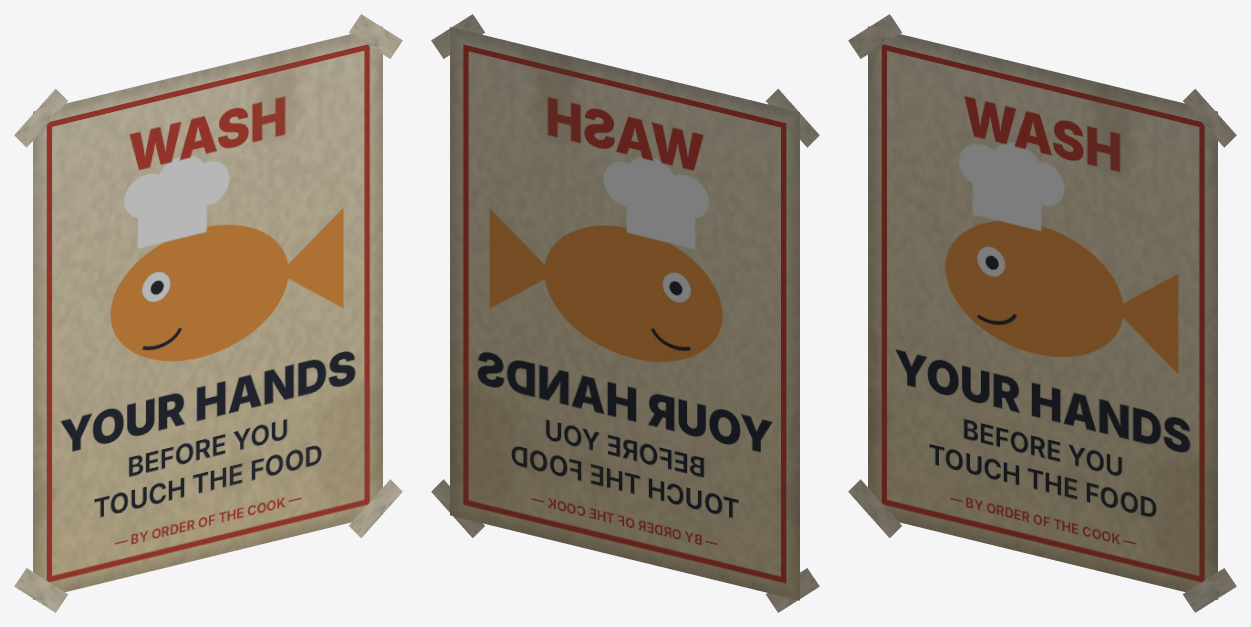
Rendered from Poster_Galley.glb.
3 renders of one model, left to right at view 1: azimuth 30°, elevation 25°; view 2: azimuth 150°, elevation 25°; view 3: azimuth 330°, elevation 25°, orthographic.
Parts seen in each view (by area): view 1: Poster_Galley_Body; view 2: Poster_Galley_Body; view 3: Poster_Galley_Body.
Boxes of the visible parts, x1,y1,x2,y2 form: Poster_Galley_Body: (14, 14, 402, 612); Poster_Galley_Body: (431, 14, 819, 612); Poster_Galley_Body: (848, 14, 1236, 612).
Size of the model in its own units: 0.4997 by 0.6441 by 0.001.
Materials: 2 (2 with a texture image).
